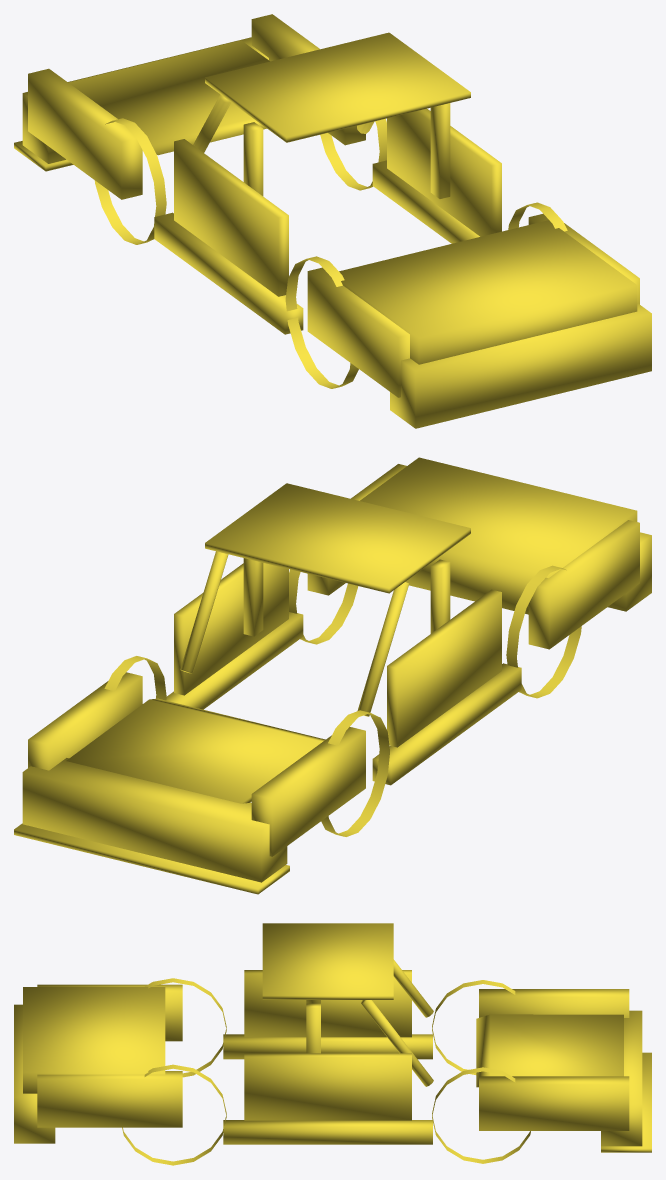
The model's file is body_dune_buggy.glb.
3 renders of one model, top to bottom at view 1: azimuth 30°, elevation 25°; view 2: azimuth 150°, elevation 25°; view 3: azimuth 270°, elevation 25°, orthographic. The views are drawn at different scales.
Parts seen in each view (by area): view 1: BODY_RearClip, BODY_Cabin, BODY_FrontClip; view 2: BODY_FrontClip, BODY_Cabin, BODY_RearClip; view 3: BODY_Cabin, BODY_FrontClip, BODY_RearClip.
Part boxes in pixels (x1,y1,x2,y2): BODY_RearClip: [285, 202, 651, 428]; BODY_Cabin: [154, 32, 501, 334]; BODY_FrontClip: [14, 14, 386, 244]; BODY_FrontClip: [14, 656, 389, 894]; BODY_Cabin: [166, 483, 521, 785]; BODY_RearClip: [289, 457, 651, 698]; BODY_Cabin: [223, 923, 433, 1144]; BODY_FrontClip: [432, 980, 651, 1163]; BODY_RearClip: [14, 978, 226, 1165].
Size of the model in its own units: 1.86 by 1.46 by 5.25.
